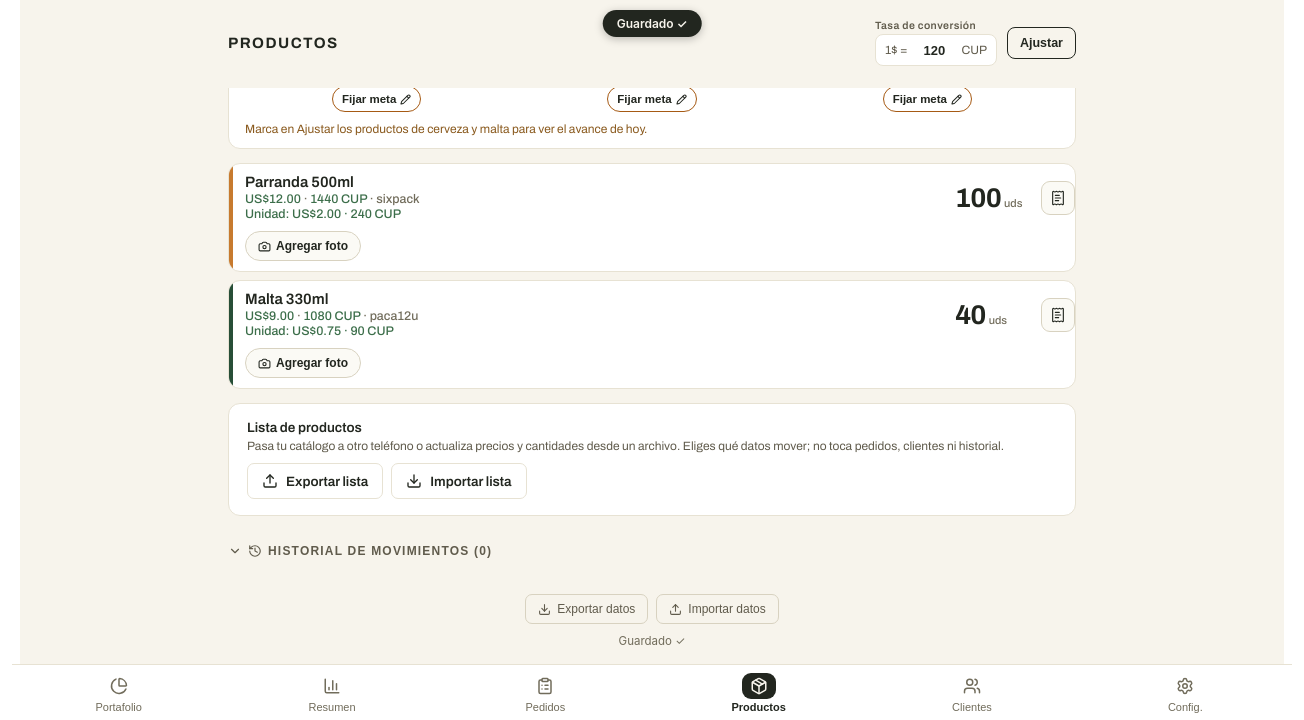
Test: Lista de productos: exportar › el nombre va siempre y los demás datos se eligen (todos marcados al empezar)
(page scrolled)
Click the button "Exportar lista" at [315, 481], box [247, 463, 383, 499]
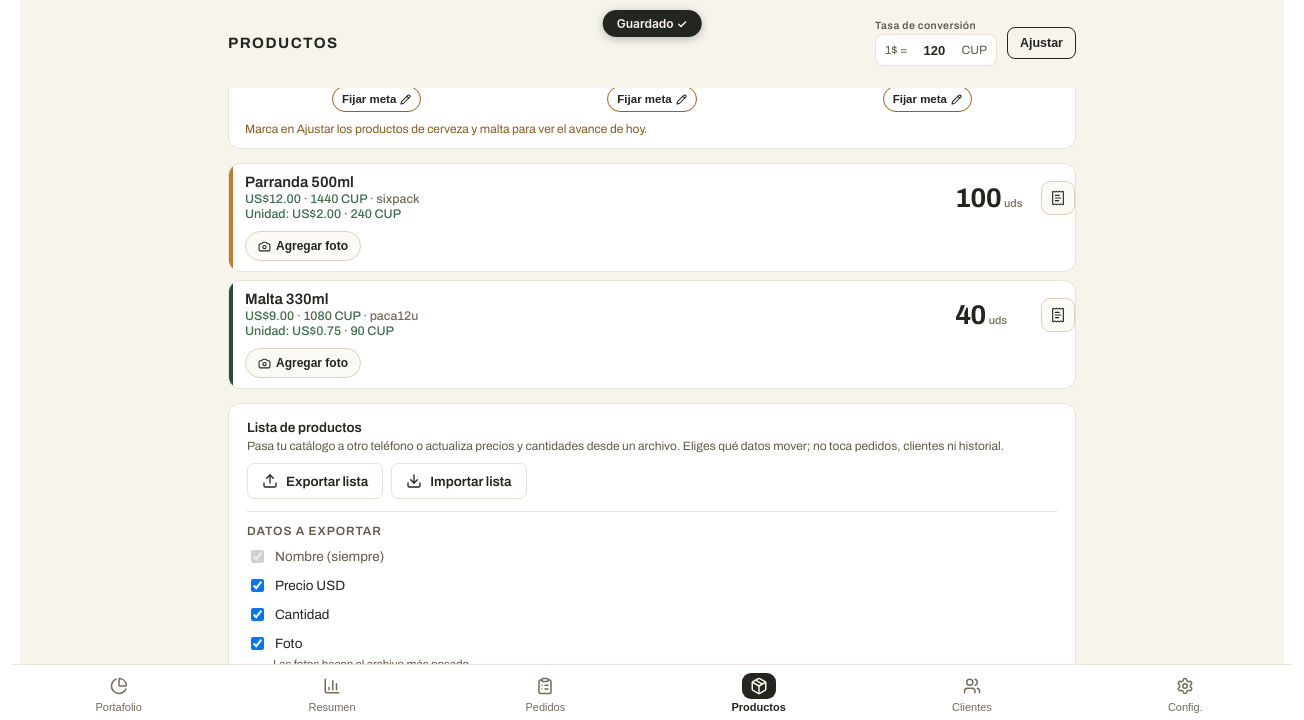
Check: the checkbox labelled "Nombre (siempre)" is checked, box [251, 550, 264, 563]
Check: the checkbox labelled "Nombre (siempre)" is disabled, box [251, 550, 264, 563]
Check: the checkbox labelled "Precio USD" is checked, box [251, 579, 264, 592]
